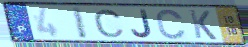4: (35, 6, 61, 39)
C: (155, 8, 188, 41), (93, 8, 127, 39)
I: (70, 6, 90, 40)
J: (130, 9, 154, 40)
K: (188, 9, 219, 42)
